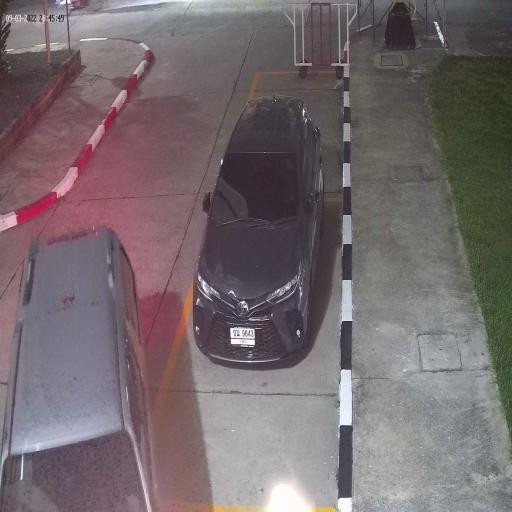car: (0, 224, 159, 512), (191, 94, 327, 366)
